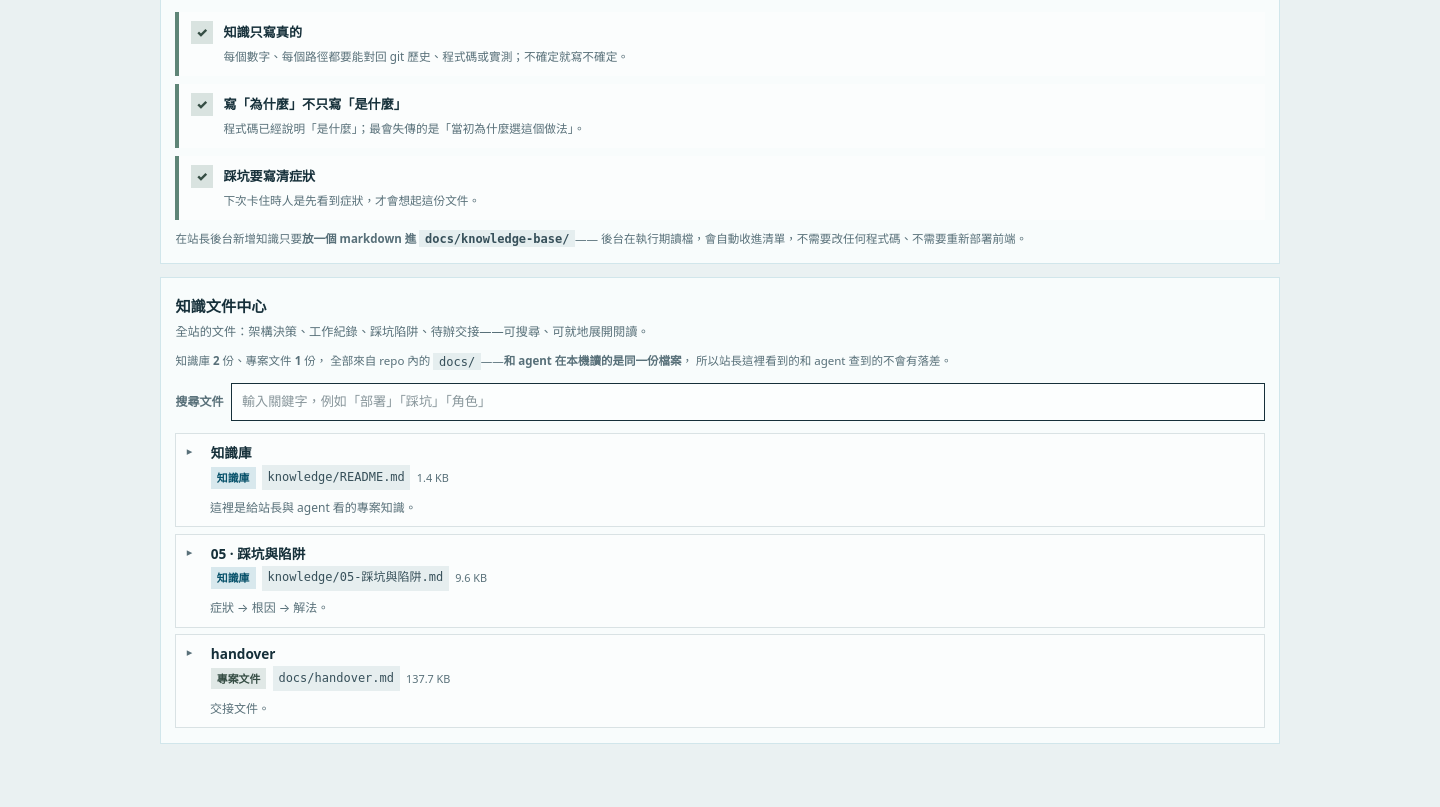
站長後台：模組渲染（由註冊表驅動） › 搜尋可以篩掉不相關的文件
The width and height of the screenshot is (1440, 807).
(page scrolled)
In the search field labelled "搜尋文件": [748, 402] box [231,383,1265,422], type "handover"
(page scrolled)
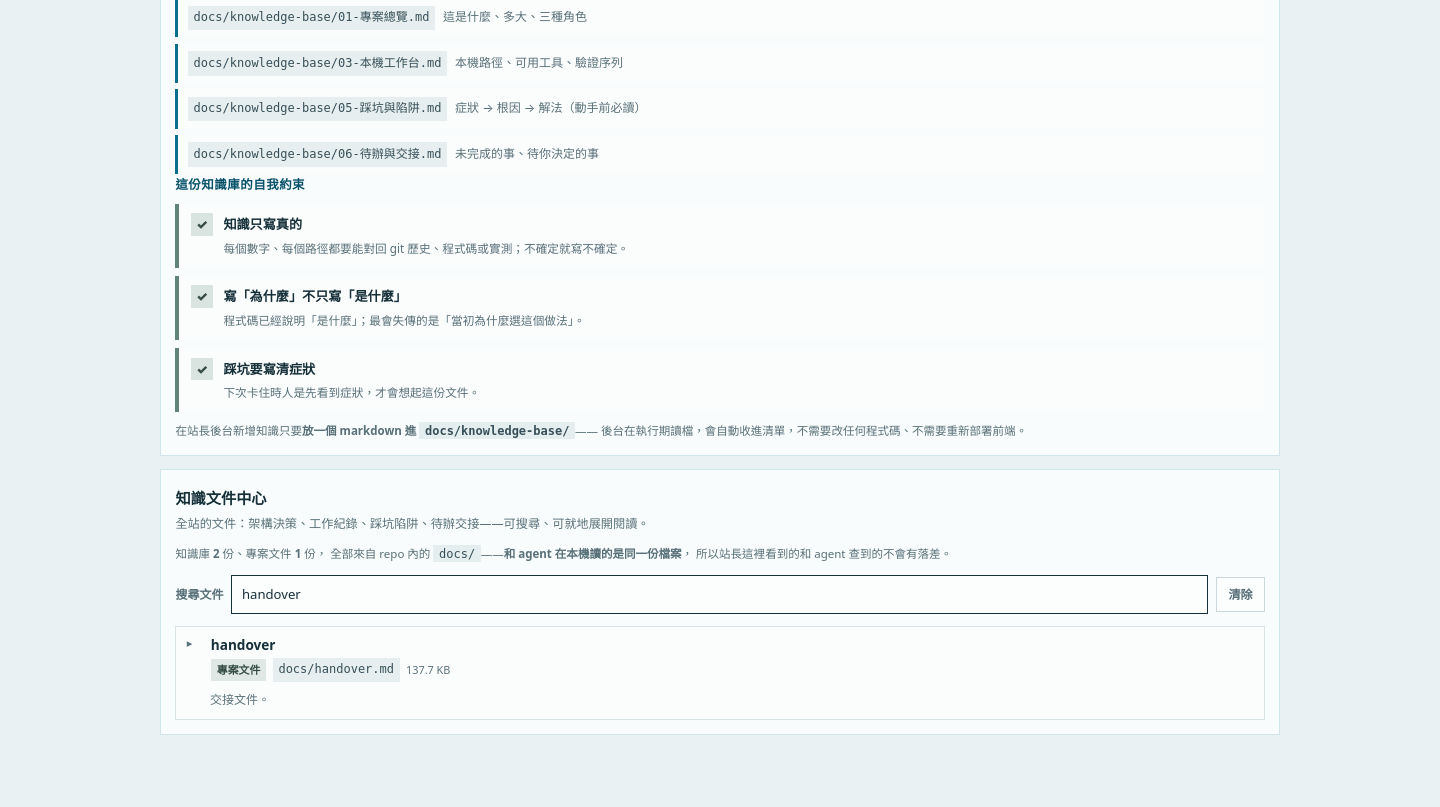
Expected: the button "▸ handover 專案文件 docs/handover.md 137.7 KB" is shown, [176,627,1264,691]
Now the button "05 · 踩坑與陷阱" is gone
